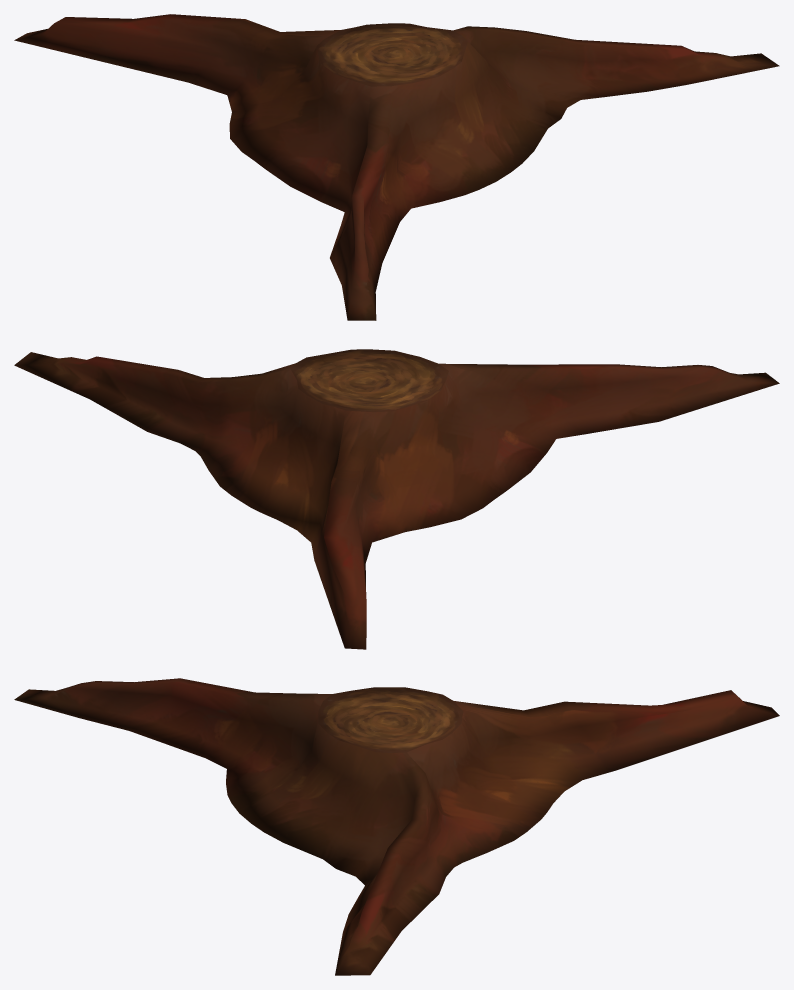
Rendered from stump.fbx.
3 views of the same model, one above another, from view 1: azimuth 30°, elevation 25°; view 2: azimuth 150°, elevation 25°; view 3: azimuth 270°, elevation 25° (orthographic).
Parts seen in each view (by area): view 1: Cube; view 2: Cube; view 3: Cube.
Boxes of the visible parts, left/top/right/bottom form: Cube: left=14, top=14, right=779, bottom=320; Cube: left=14, top=349, right=779, bottom=649; Cube: left=14, top=678, right=779, bottom=975.
Size of the model in its own units: 1556 by 211 by 1760.
